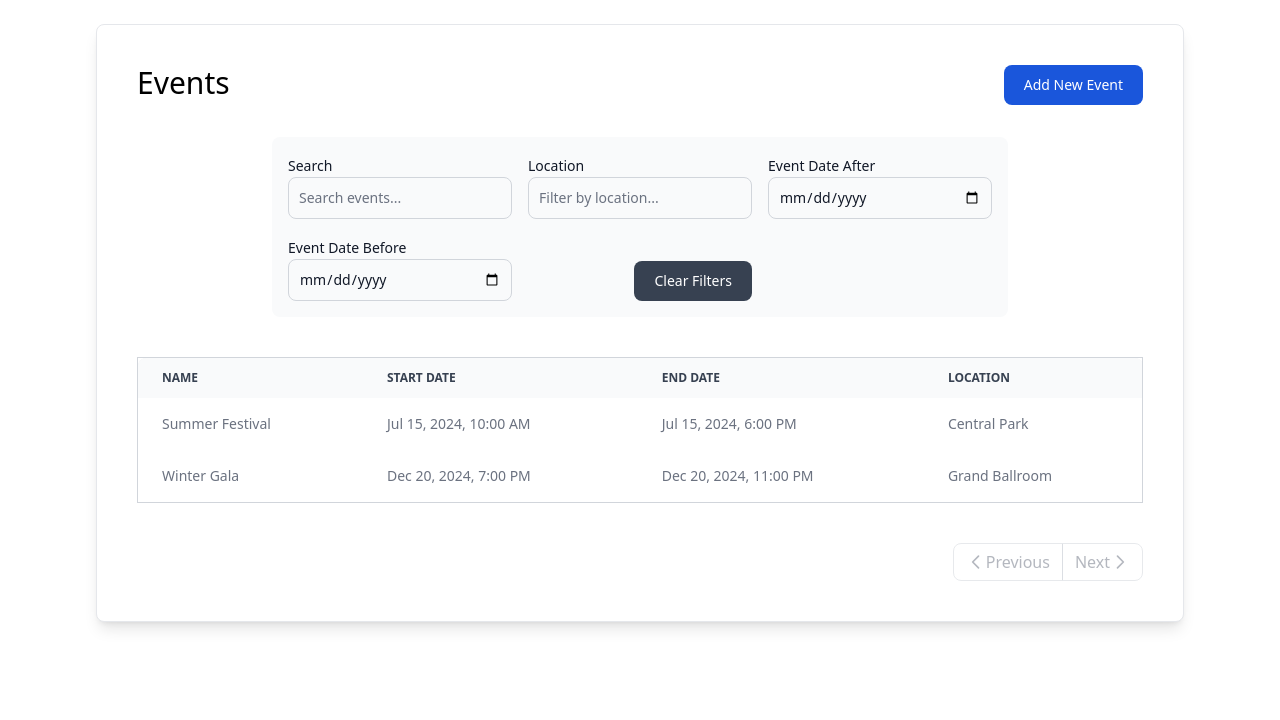
Test case: Events Page › applies the search filter and updates the table
Expected: the text "Winter Gala" is shown, [138,450,363,502]
Type "Summer" into the field with placeholder "Search events..." at (400,198), box [288,177,512,219]
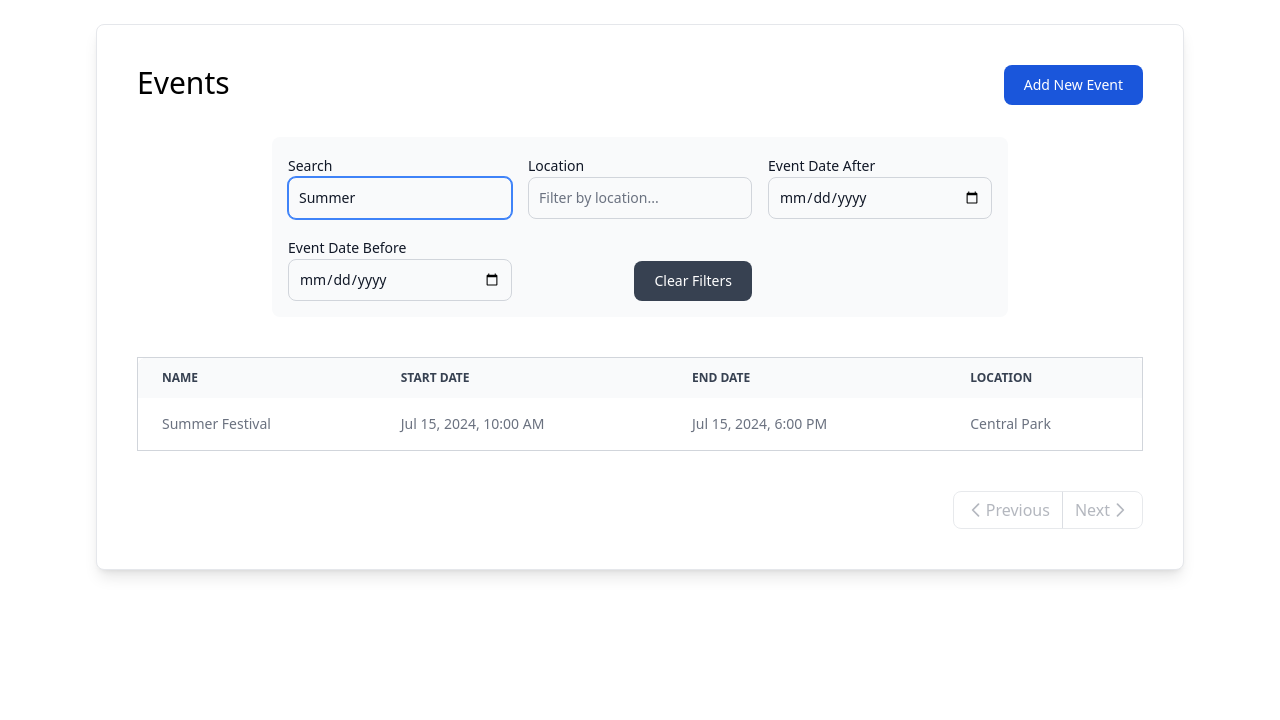
Expected: the text "Summer Festival" is shown, [138,398,377,450]
Expected: the text "Winter Gala" is gone
